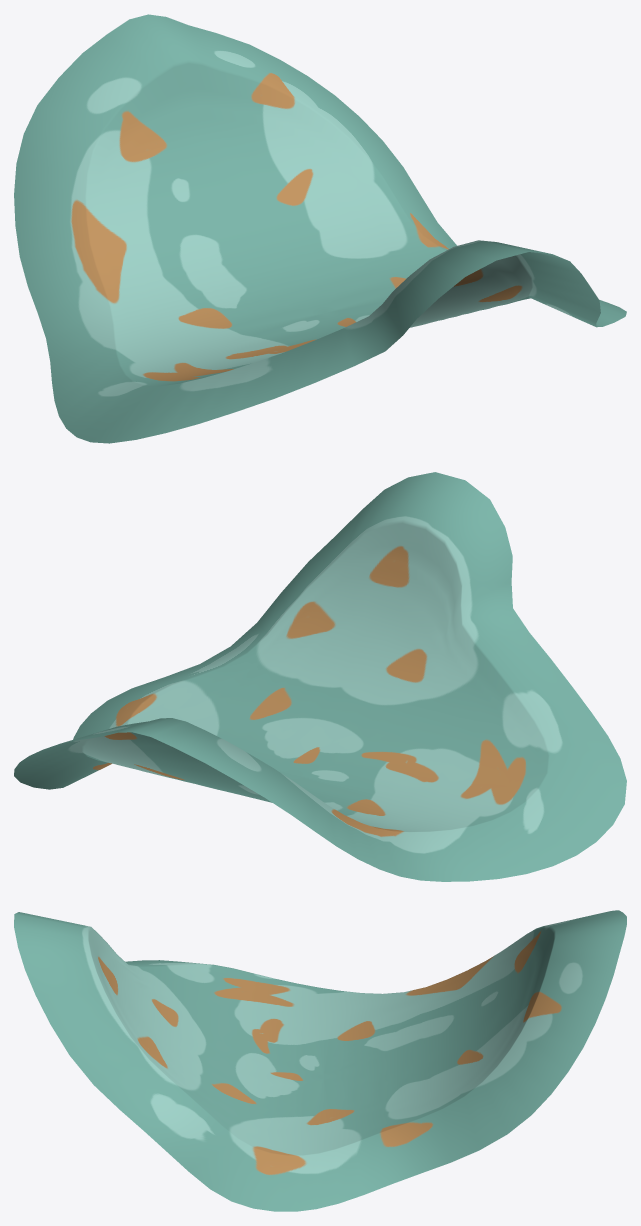
The model's file is Large Rusty Puddle.fbx.
3 renders of one model, top to bottom at view 1: azimuth 30°, elevation 25°; view 2: azimuth 150°, elevation 25°; view 3: azimuth 270°, elevation 25°, orthographic. The views are drawn at different scales.
Visible parts, largest first — view 1: Large; view 2: Large; view 3: Large.
Boxes of the visible parts, left/top/right/bottom form: Large: left=14, top=14, right=626, bottom=443; Large: left=14, top=472, right=626, bottom=881; Large: left=14, top=910, right=626, bottom=1211.
Bounding box in the file's own units: 50.55 × 19.51 × 56.74.
1 material, 1 textured.
